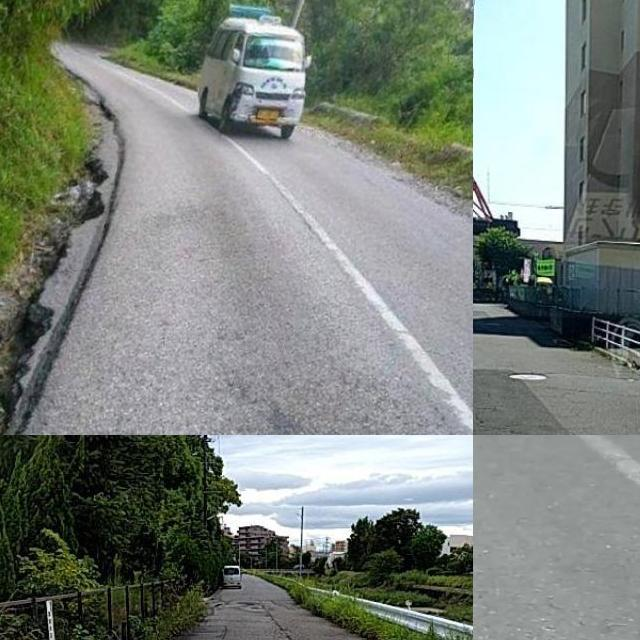Pinggir: (0, 101, 140, 435)
Sambungan: (473, 371, 568, 435)
